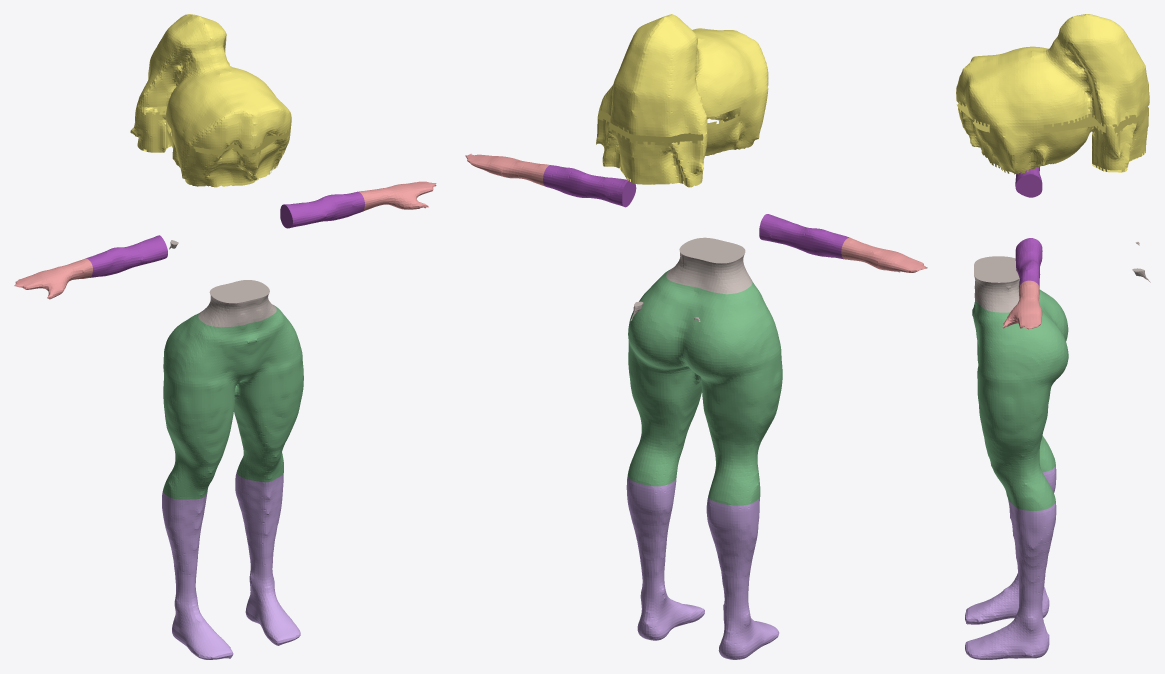
File: character_godmode_dynamic_ai_segmented.glb
The picture shows the model from 3 angles, left to right: view 1: azimuth 30°, elevation 25°; view 2: azimuth 150°, elevation 25°; view 3: azimuth 270°, elevation 25°; orthographic projection. The views are drawn at different scales.
Visible parts, largest first — view 1: Part_HEAD_HAIR, Part_LEG_UPPER_L, Part_LEG_UPPER_R, Part_LEG_LOWER_R, Part_LEG_LOWER_L, Part_TORSO, Part_ARM_UPPER_R, Part_ARM_UPPER_L, Part_ARM_LOWER_L, Part_ARM_LOWER_R; view 2: Part_HEAD_HAIR, Part_LEG_UPPER_L, Part_LEG_UPPER_R, Part_LEG_LOWER_L, Part_LEG_LOWER_R, Part_TORSO, Part_ARM_UPPER_R, Part_ARM_UPPER_L, Part_ARM_LOWER_L, Part_ARM_LOWER_R; view 3: Part_HEAD_HAIR, Part_LEG_UPPER_R, Part_LEG_LOWER_R, Part_TORSO, Part_LEG_LOWER_L, Part_ARM_LOWER_R, Part_LEG_UPPER_L, Part_ARM_UPPER_R, Part_ARM_UPPER_L.
Boxes of the visible parts, x1=… form: Part_HEAD_HAIR: x1=130, y1=14, x2=291, y2=187; Part_LEG_UPPER_L: x1=163, y1=313, x2=251, y2=499; Part_LEG_UPPER_R: x1=234, y1=305, x2=303, y2=482; Part_LEG_LOWER_R: x1=235, y1=472, x2=300, y2=645; Part_LEG_LOWER_L: x1=162, y1=491, x2=233, y2=659; Part_TORSO: x1=169, y1=240, x2=276, y2=327; Part_ARM_UPPER_R: x1=280, y1=191, x2=364, y2=228; Part_ARM_UPPER_L: x1=86, y1=235, x2=167, y2=277; Part_ARM_LOWER_L: x1=14, y1=258, x2=92, y2=299; Part_ARM_LOWER_R: x1=358, y1=181, x2=436, y2=211; Part_HEAD_HAIR: x1=596, y1=14, x2=768, y2=187; Part_LEG_UPPER_L: x1=681, y1=281, x2=782, y2=505; Part_LEG_UPPER_R: x1=628, y1=269, x2=701, y2=486; Part_LEG_LOWER_L: x1=706, y1=496, x2=779, y2=659; Part_LEG_LOWER_R: x1=626, y1=475, x2=704, y2=640; Part_TORSO: x1=630, y1=237, x2=752, y2=321; Part_ARM_UPPER_R: x1=543, y1=165, x2=636, y2=207; Part_ARM_UPPER_L: x1=759, y1=214, x2=849, y2=259; Part_ARM_LOWER_L: x1=841, y1=237, x2=927, y2=272; Part_ARM_LOWER_R: x1=465, y1=153, x2=549, y2=186; Part_HEAD_HAIR: x1=956, y1=14, x2=1149, y2=174; Part_LEG_UPPER_R: x1=972, y1=300, x2=1068, y2=510; Part_LEG_LOWER_R: x1=965, y1=500, x2=1056, y2=659; Part_TORSO: x1=974, y1=242, x2=1150, y2=312; Part_LEG_LOWER_L: x1=965, y1=464, x2=1056, y2=624; Part_ARM_LOWER_R: x1=1001, y1=280, x2=1042, y2=329; Part_LEG_UPPER_L: x1=972, y1=289, x2=1068, y2=472; Part_ARM_UPPER_R: x1=1015, y1=238, x2=1042, y2=287; Part_ARM_UPPER_L: x1=1015, y1=166, x2=1042, y2=197.
Size of the model in its own units: 1.46 by 1.96 by 0.5555.
